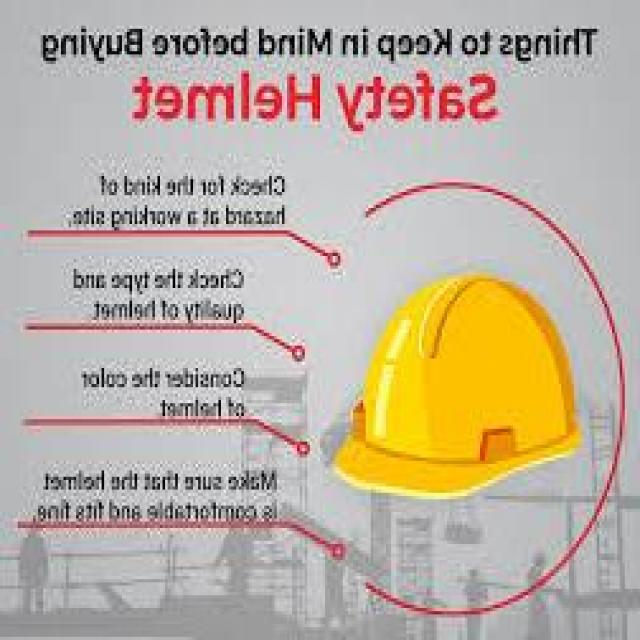Safety-Helmet: (320, 195, 640, 547)
